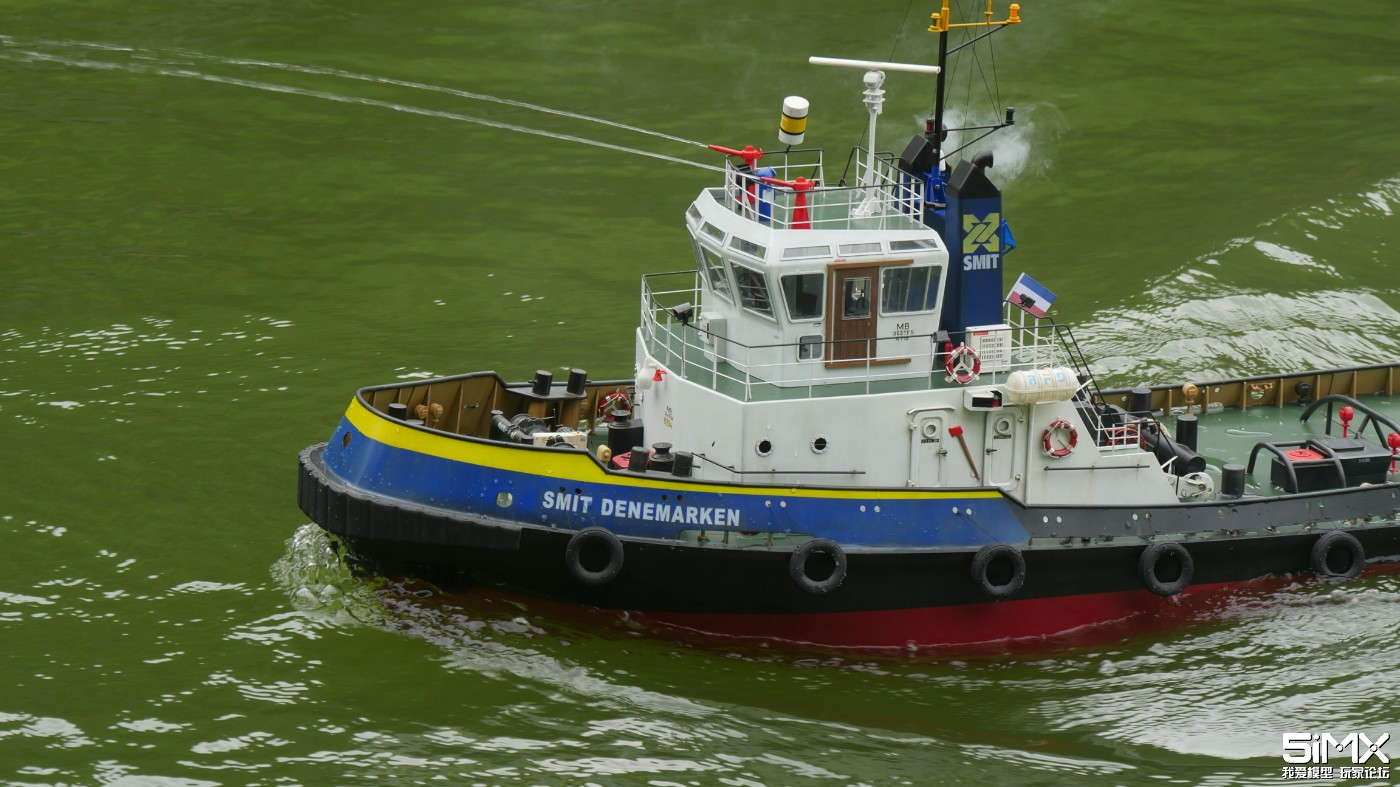otherboat: (301, 23, 1400, 593)
